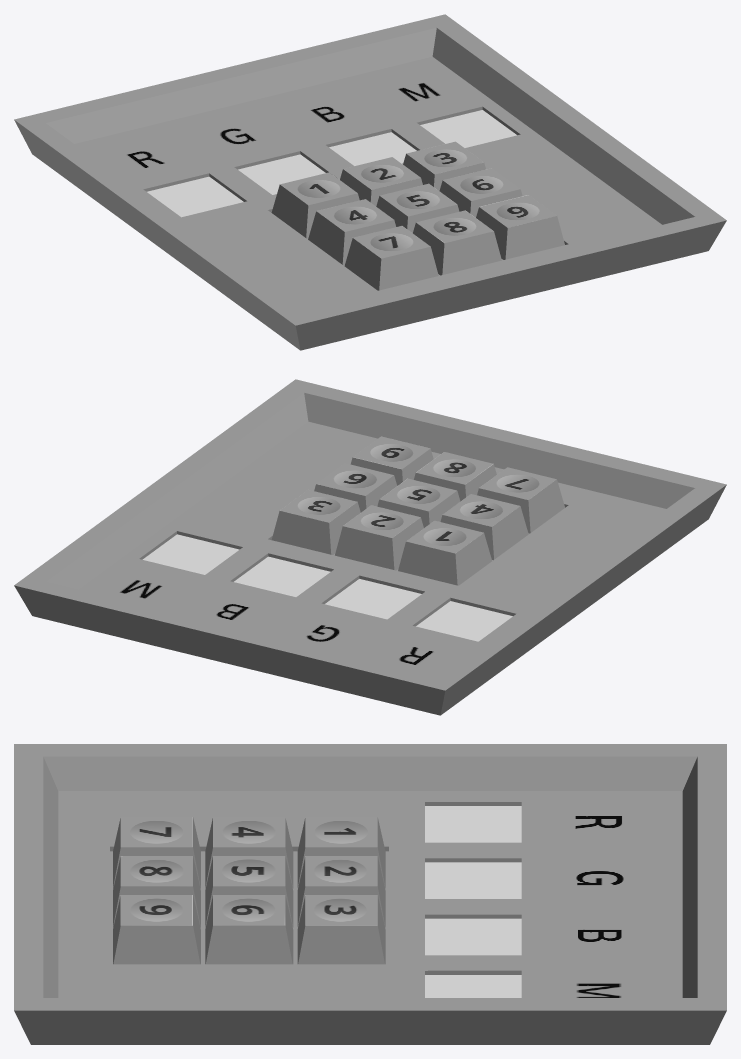
File: TastierinoNerra.fbx
The picture shows the model from 3 angles, top to bottom: view 1: azimuth 30°, elevation 25°; view 2: azimuth 150°, elevation 25°; view 3: azimuth 270°, elevation 25°; orthographic projection. The views are drawn at different scales.
Visible parts, largest first — view 1: case, display numeri, tasto 7, tasto 9, tasto 8, tasto 4, tasto 1, tasto 6, tasto 2, tasto 3, tasto 5; view 2: case, display numeri, tasto 1, tasto 2, tasto 3, tasto 7, tasto 4, tasto 6, tasto 8, tasto 5, tasto 9; view 3: case, display numeri, tasto 6, tasto 3, tasto 9, tasto 4, tasto 5, tasto 1, tasto 2, tasto 7, tasto 8.
Boxes of the visible parts, x1,y1,x2,y2 form: case: (14,14,726,350); display numeri: (147,110,516,217); tasto 7: (344,226,438,290); tasto 9: (476,195,564,259); tasto 8: (413,210,501,275); tasto 4: (308,199,395,265); tasto 1: (271,172,359,238); tasto 6: (439,168,522,217); tasto 2: (340,157,422,206); tasto 3: (403,141,485,190); tasto 5: (376,183,459,232); case: (14,379,726,715); display numeri: (142,534,512,641); tasto 1: (398,520,491,585); tasto 2: (335,505,423,570); tasto 3: (271,490,360,554); tasto 7: (477,467,564,533); tasto 4: (440,494,528,560); tasto 6: (314,463,396,512); tasto 8: (414,452,496,501); tasto 5: (377,478,460,527); tasto 9: (350,436,433,485); case: (14,744,726,1044); display numeri: (425,806,521,997); tasto 6: (205,895,293,964); tasto 3: (297,895,385,964); tasto 9: (113,895,200,964); tasto 4: (205,817,293,888); tasto 5: (205,856,293,927); tasto 1: (297,817,385,888); tasto 2: (297,856,385,927); tasto 7: (113,817,200,888); tasto 8: (113,856,200,927).
Size of the model in its own units: 50.13 by 4.18 by 56.69.
